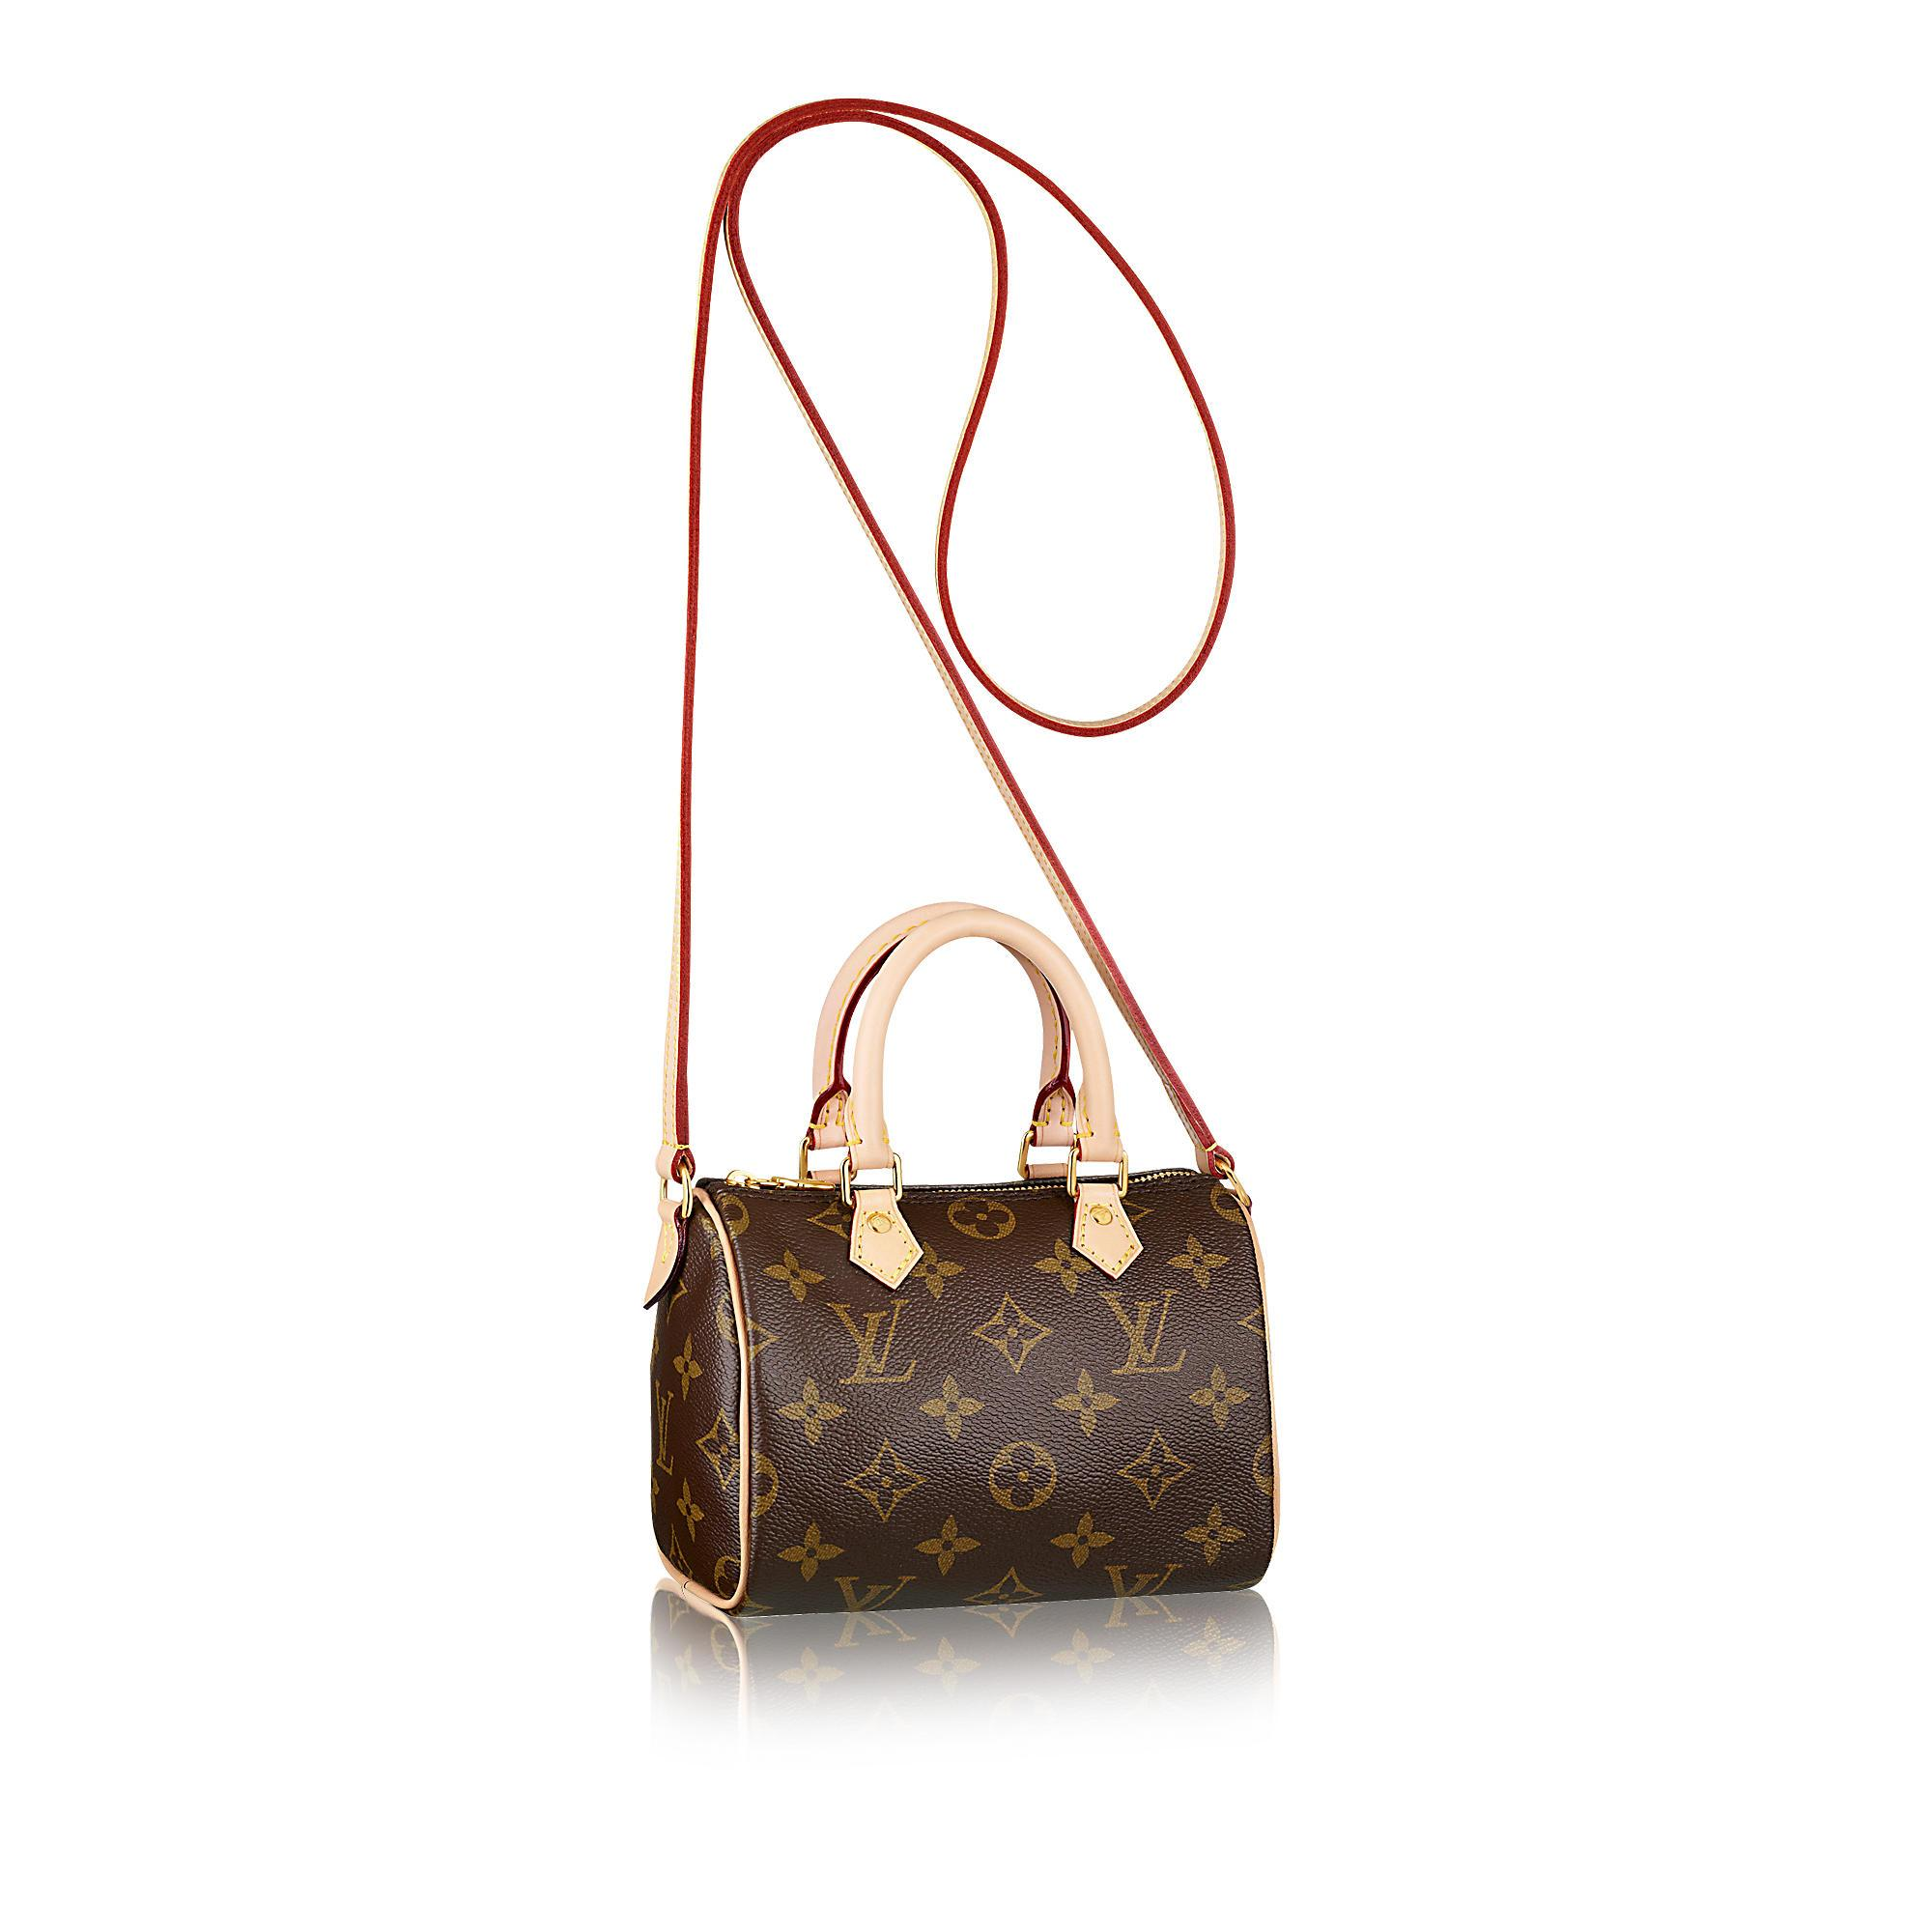LOUIS-VUITTON: (821, 1297, 916, 1384), (1095, 1288, 1191, 1375), (648, 1378, 674, 1474)
